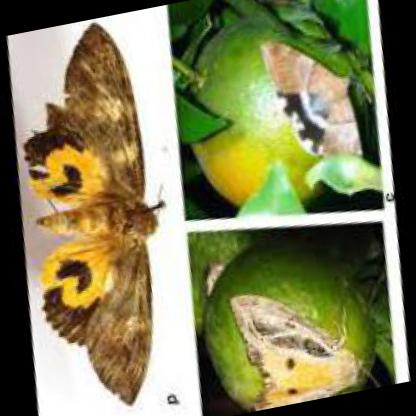fruit sucking moth: (24, 23, 156, 406), (259, 44, 361, 164)
